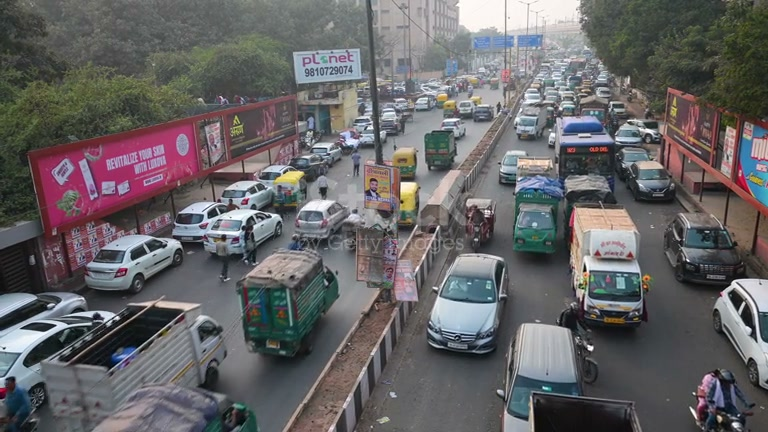bus: (556, 118, 615, 185)
car: (0, 309, 118, 409), (496, 322, 598, 431), (425, 253, 510, 354), (89, 384, 259, 432), (711, 278, 768, 390), (662, 211, 745, 286), (84, 233, 185, 293), (200, 208, 285, 261), (512, 175, 566, 255), (528, 394, 644, 431), (0, 291, 87, 333), (292, 198, 352, 242), (171, 200, 232, 242), (512, 203, 561, 254), (624, 161, 676, 203), (219, 180, 276, 213), (463, 197, 496, 249), (613, 146, 652, 181), (288, 153, 328, 182), (497, 149, 528, 185), (311, 142, 343, 167), (614, 125, 644, 146), (440, 117, 467, 139), (414, 96, 437, 111), (473, 105, 493, 121)
pedestrian: (1, 376, 31, 430), (315, 170, 330, 199)
truck: (35, 295, 229, 425), (236, 247, 341, 358), (568, 200, 648, 328), (423, 129, 456, 172)
